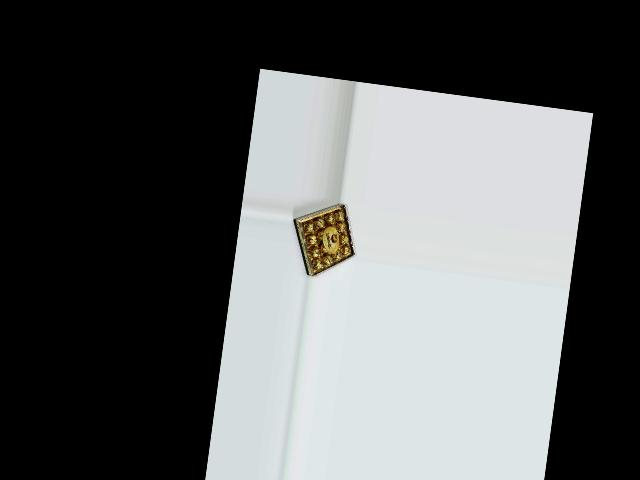chocolate: (284, 196, 362, 283)
